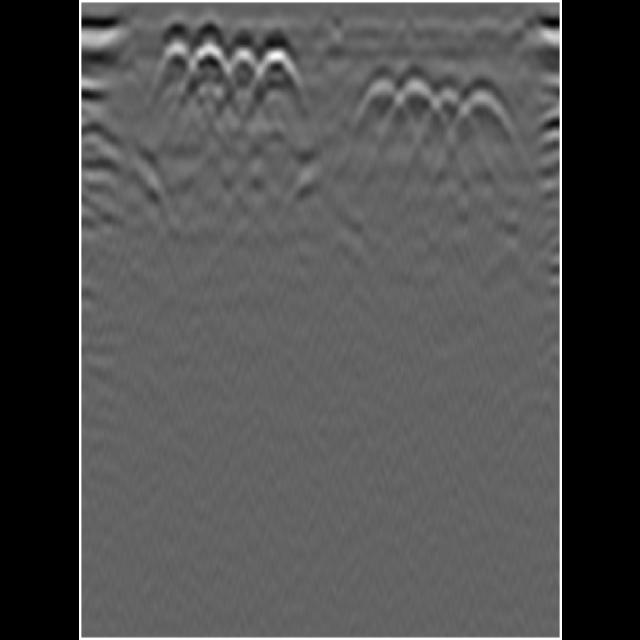hyperbola: (458, 78, 512, 142), (146, 33, 198, 91), (252, 45, 306, 97), (388, 70, 440, 122), (352, 74, 404, 124), (177, 46, 231, 92), (222, 44, 266, 92), (428, 85, 472, 131)
